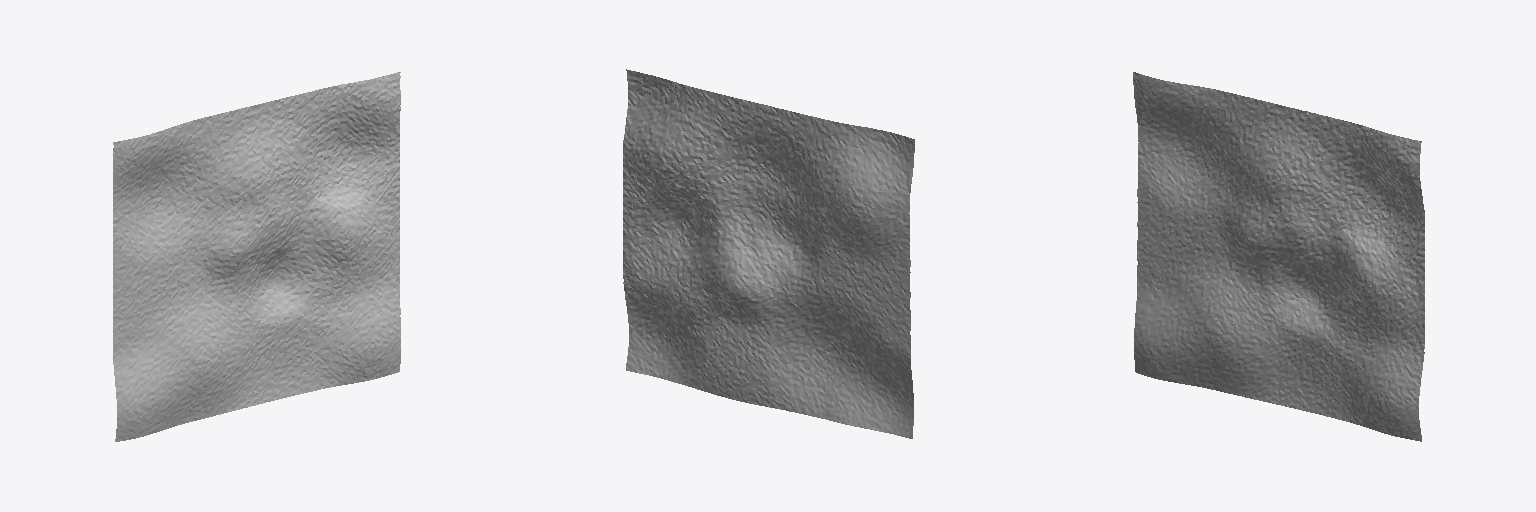
Rendered from seabed.obj.
3 views of the same model, side by side, from view 1: azimuth 30°, elevation 25°; view 2: azimuth 150°, elevation 25°; view 3: azimuth 330°, elevation 25° (orthographic).
Visible parts, largest first — view 1: Plane; view 2: Plane; view 3: Plane.
Part boxes in pixels (left/top/right/bottom): Plane: left=113, top=72, right=400, bottom=441; Plane: left=623, top=69, right=914, bottom=438; Plane: left=1133, top=72, right=1424, bottom=441.
Bounding box in the file's own units: 201 × 201 × 14.44.